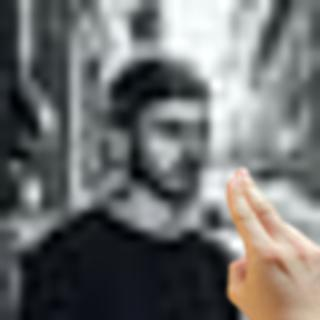DHAVE: (211, 162, 320, 320)
